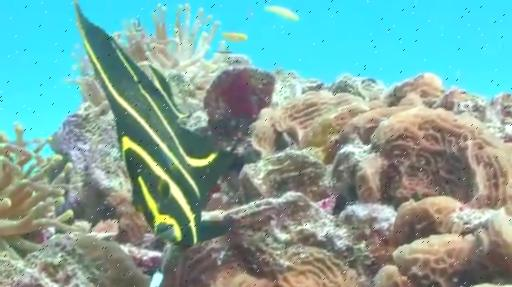Fish: (75, 0, 233, 266)
